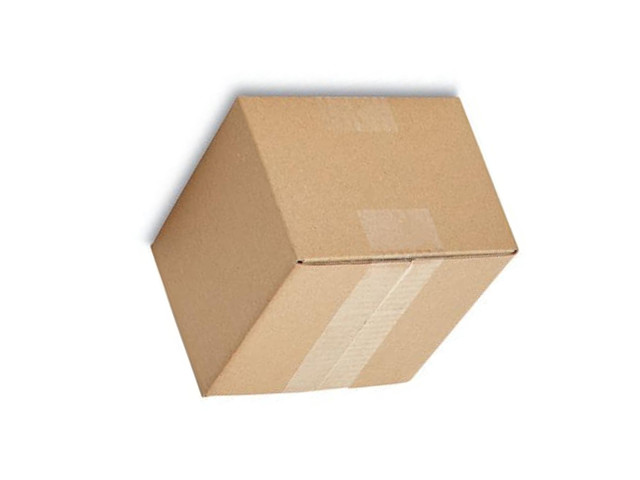cardboard: (148, 92, 516, 395)
